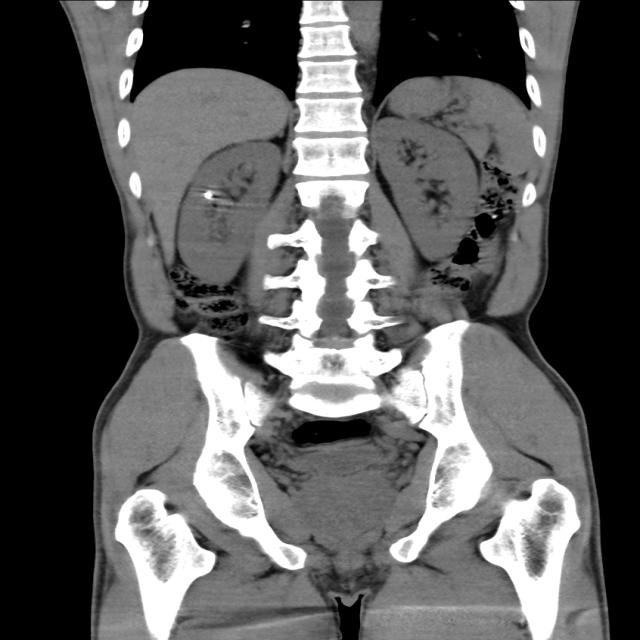kidneystone: (197, 188, 214, 199)
